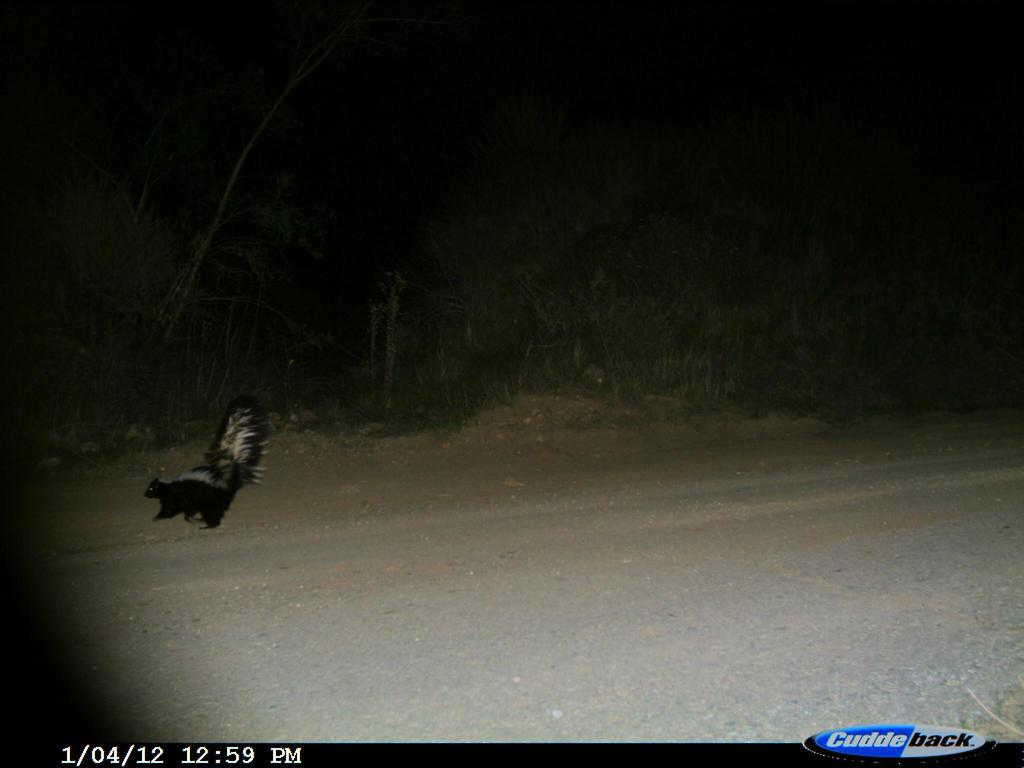skunk: (131, 386, 276, 542)
